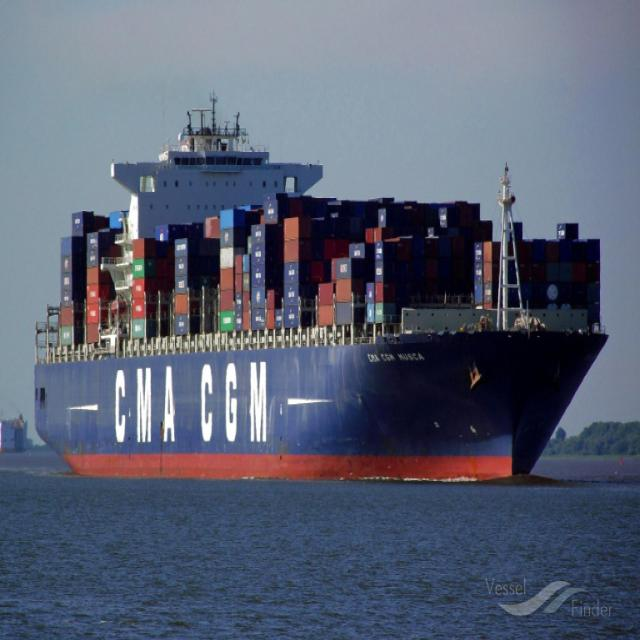Container Ship: (31, 94, 600, 499)
